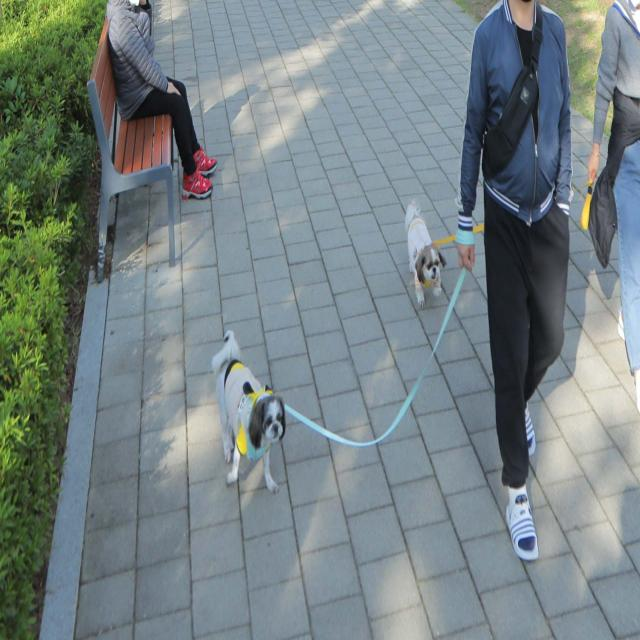Leashed_Dog: (212, 230, 540, 495), (405, 144, 640, 308)
